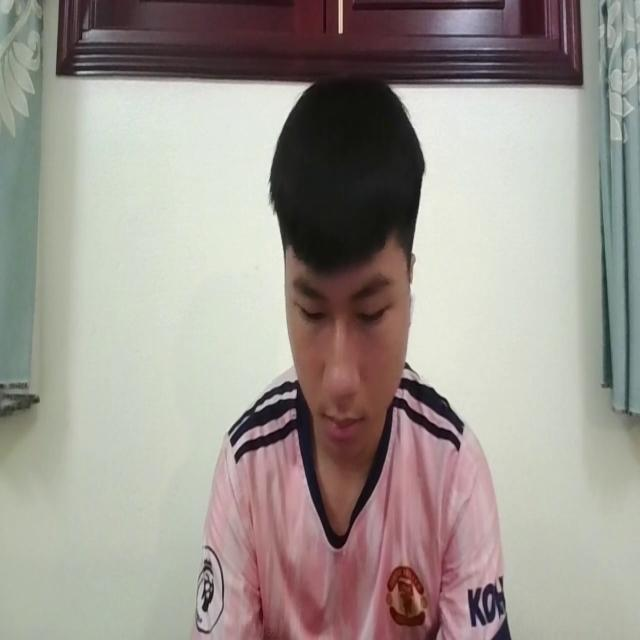student: (198, 63, 507, 640)
